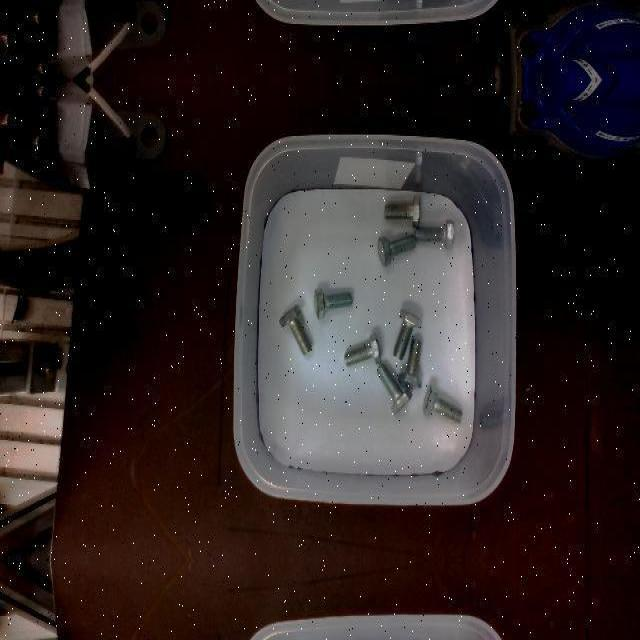screw: (376, 364, 412, 414), (278, 304, 311, 356), (422, 384, 463, 424), (393, 308, 422, 358), (343, 331, 381, 365), (415, 218, 455, 250), (314, 288, 352, 320), (398, 337, 422, 387), (377, 233, 416, 263), (384, 194, 420, 224)
